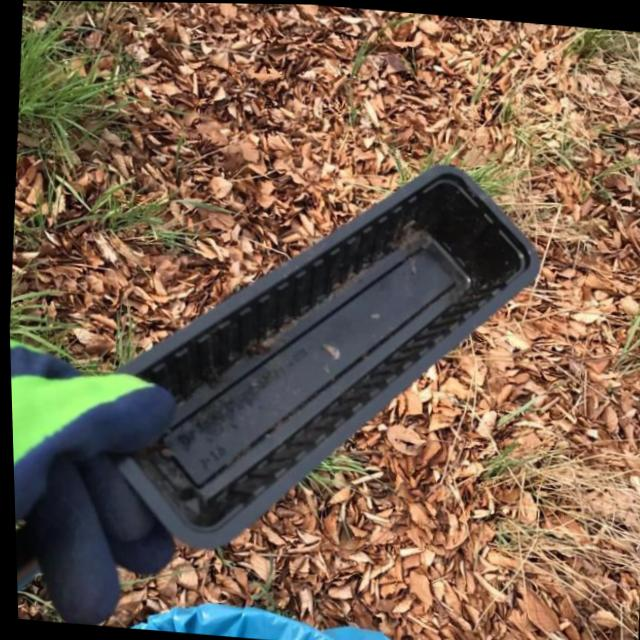Plastic: (91, 130, 555, 578)
